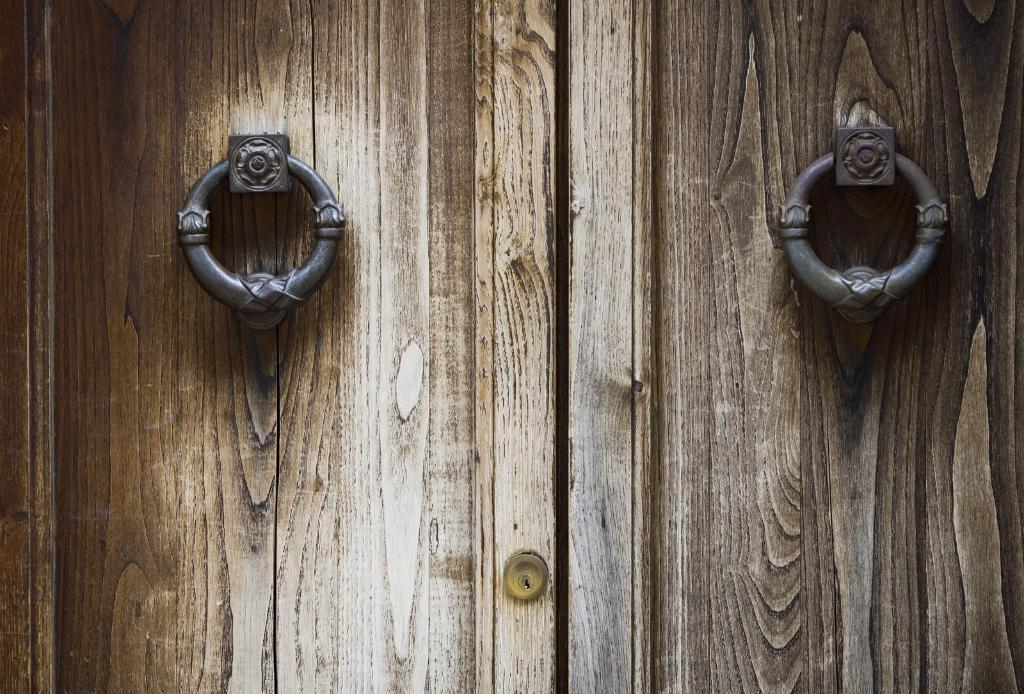door: (42, 20, 556, 694), (564, 15, 1018, 694)
handle: (766, 140, 970, 318), (148, 152, 350, 330)
